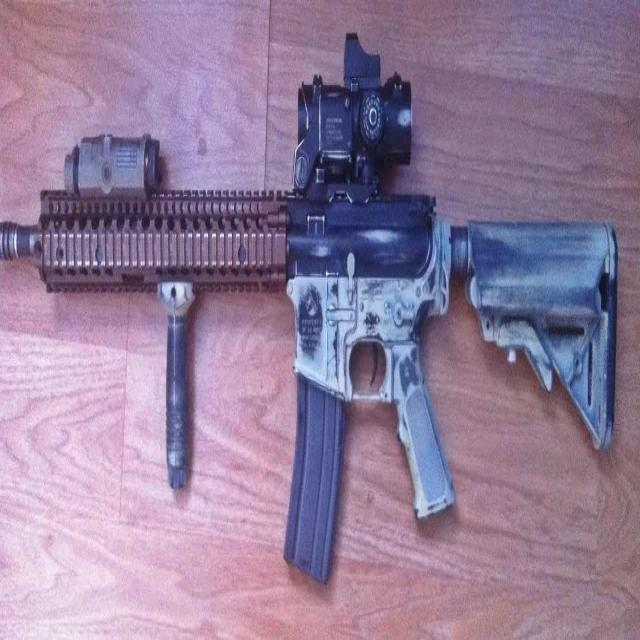firearm: (1, 36, 618, 583)
